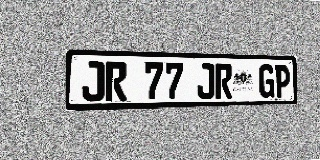7: (144, 62, 164, 100), (164, 63, 183, 100)
G: (259, 64, 274, 98)
J: (82, 61, 104, 102), (197, 63, 215, 99)
P: (275, 65, 290, 98)
R: (105, 62, 127, 101), (215, 64, 232, 99)
